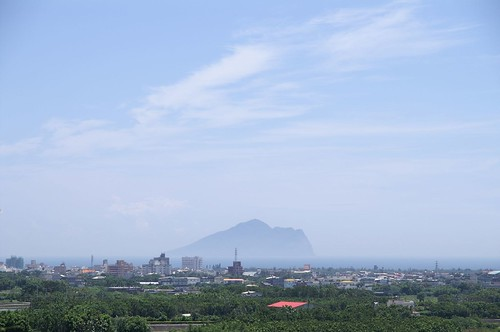turtleIsland: (160, 220, 313, 256)
